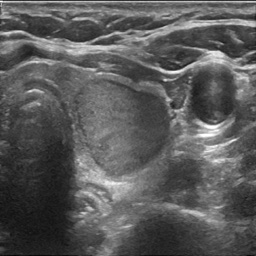mass: (76, 76, 171, 177)
